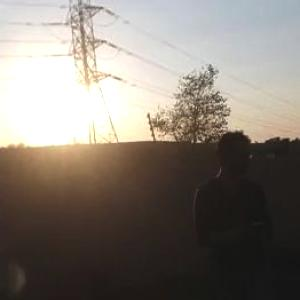follow: (182, 117, 282, 299)
